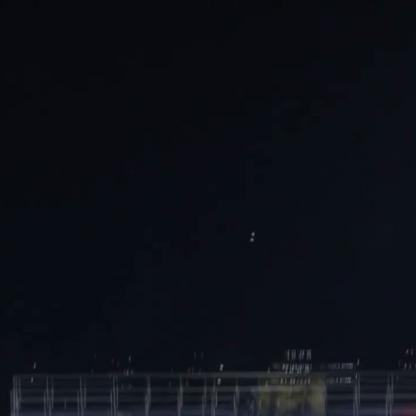ball: (247, 237, 259, 243), (249, 228, 257, 236)
